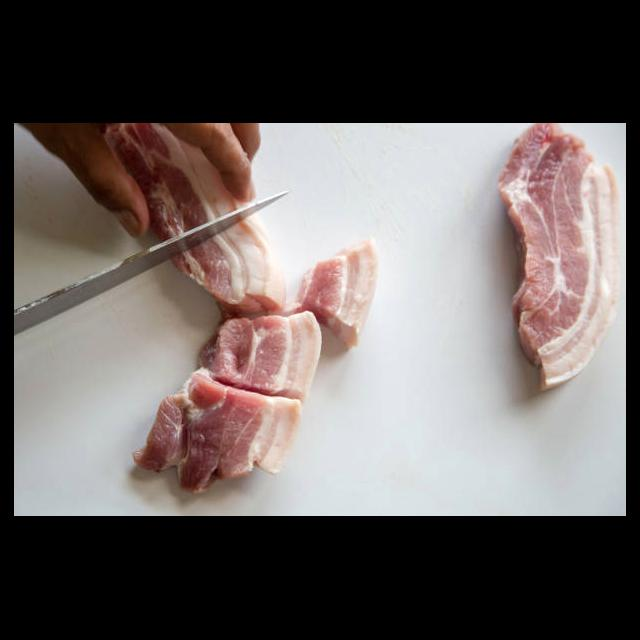pork: (503, 124, 619, 390), (133, 378, 303, 497), (199, 316, 328, 395), (300, 235, 385, 344), (148, 145, 225, 228), (193, 248, 289, 309)
